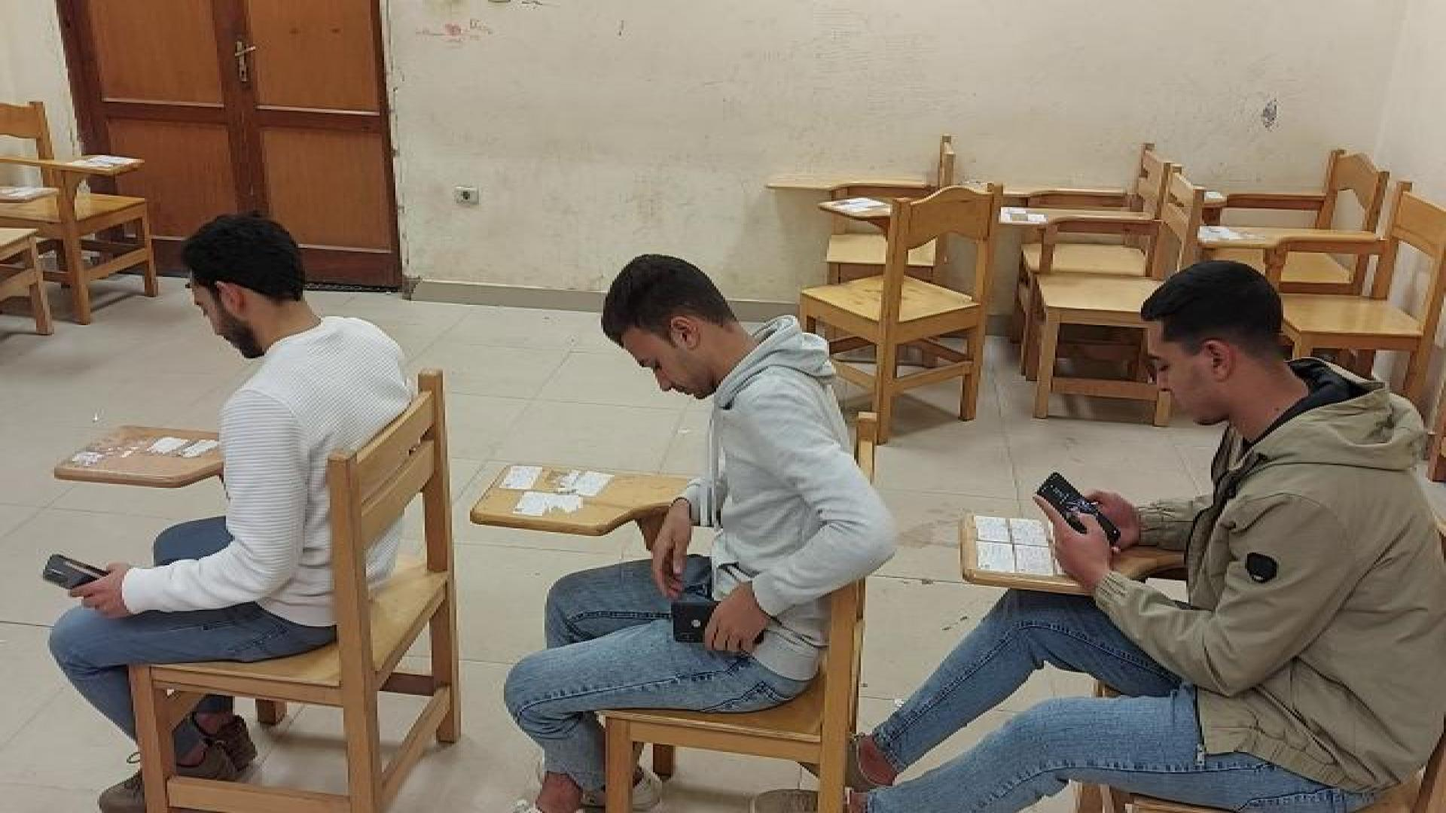phone: (1034, 471, 1124, 550), (41, 553, 108, 593), (672, 601, 720, 647)
